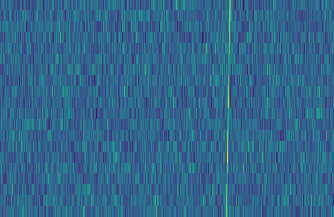signal: (222, 0, 235, 217)
